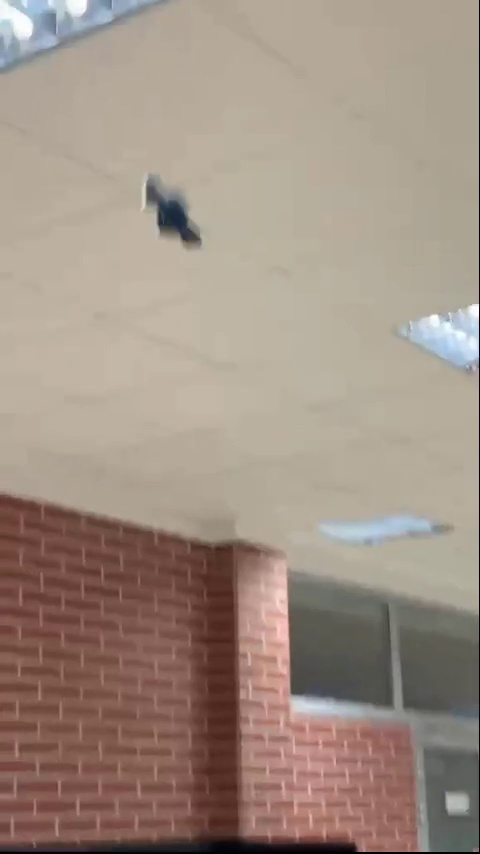drone: (136, 178, 209, 253)
